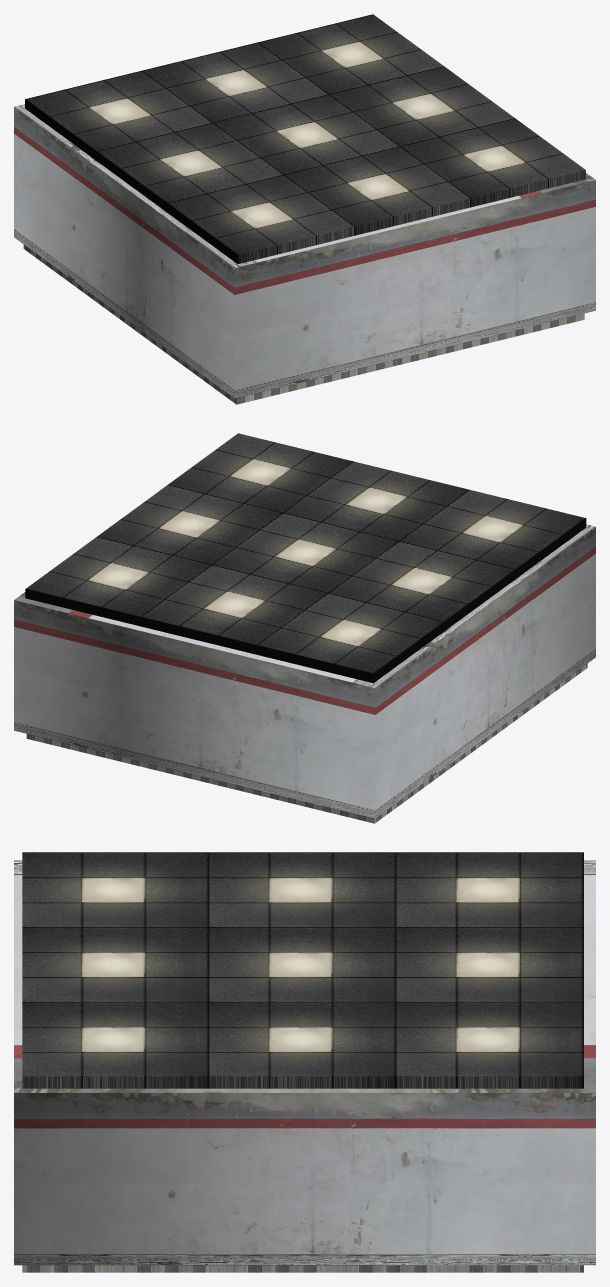
File: Hospital.glb
3 renders of one model, top to bottom at view 1: azimuth 30°, elevation 25°; view 2: azimuth 150°, elevation 25°; view 3: azimuth 270°, elevation 25°, orthographic. The views are drawn at different scales.
Visible parts, largest first — view 1: Hospital; view 2: Hospital; view 3: Hospital.
Part boxes in pixels (x1,y1,x2,y2): Hospital: (14,14,595,404); Hospital: (14,433,595,823); Hospital: (14,852,595,1272).
Size of the model in its own units: 85.73 by 33.88 by 90.66.
18 materials, 17 textured.
